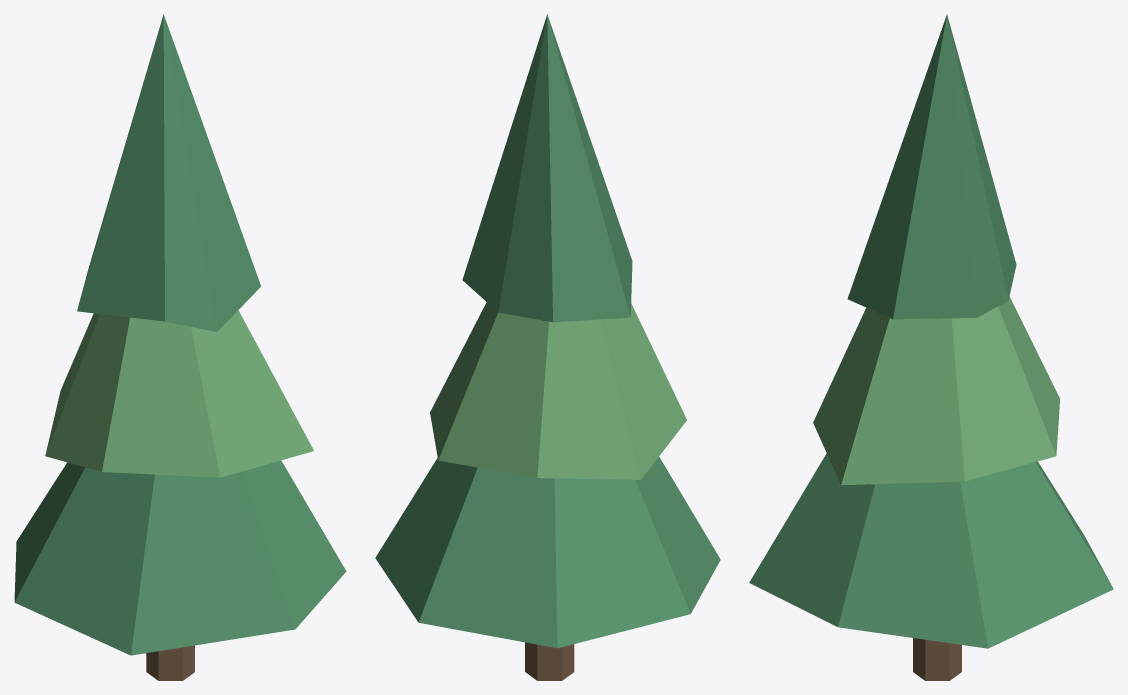
The model's file is SM_Pine_01.fbx.
3 renders of one model, left to right at view 1: azimuth 30°, elevation 25°; view 2: azimuth 150°, elevation 25°; view 3: azimuth 270°, elevation 25°, orthographic.
Parts seen in each view (by area): view 1: SM_Pine_01; view 2: SM_Pine_01; view 3: SM_Pine_01.
Boxes of the visible parts, bbox=[...] form: SM_Pine_01: bbox=[14, 14, 346, 680]; SM_Pine_01: bbox=[375, 14, 720, 680]; SM_Pine_01: bbox=[749, 14, 1113, 680].
Size of the model in its own units: 1.47 by 3.11 by 1.57.
